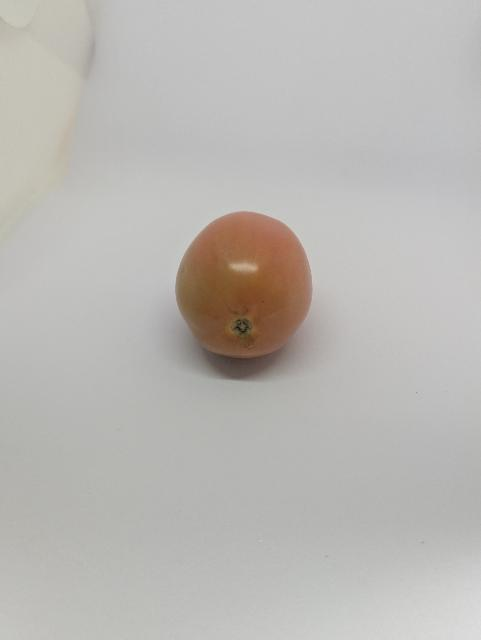turning: (164, 205, 319, 367)
